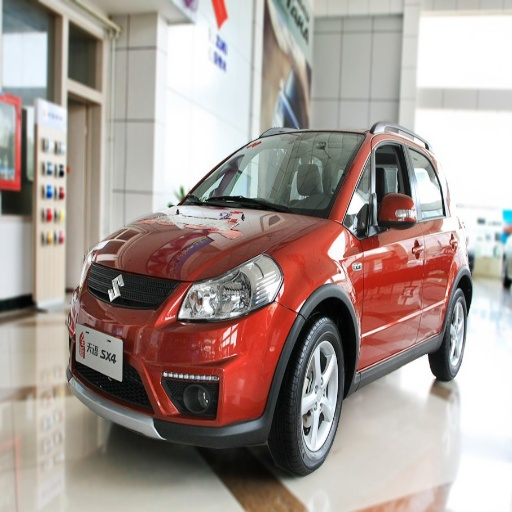front_bumper: (68, 264, 297, 444)
front_glass: (181, 133, 362, 216)
front_left_door: (360, 135, 423, 359)
